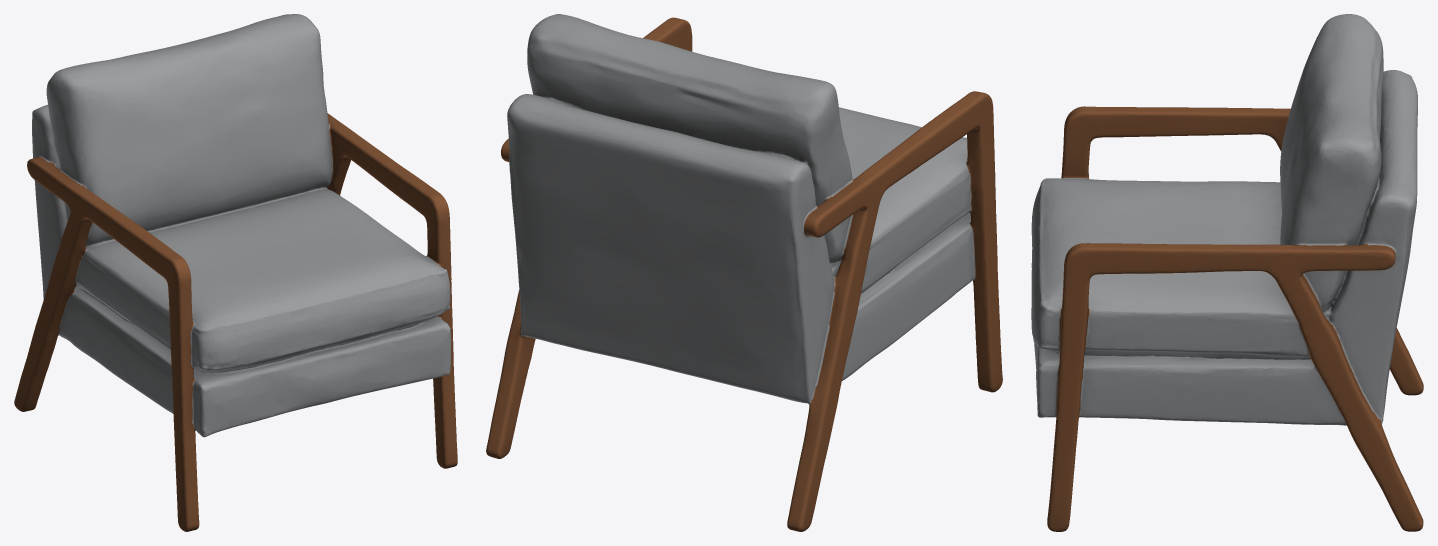
Rendered from agata-072.glb.
The picture shows the model from 3 angles, left to right: view 1: azimuth 30°, elevation 25°; view 2: azimuth 150°, elevation 25°; view 3: azimuth 270°, elevation 25°; orthographic projection. The views are drawn at different scales.
Parts seen in each view (by area): view 1: Sofa; view 2: Sofa; view 3: Sofa.
Boxes of the visible parts, <box> form: Sofa: <box>14,14,457,531</box>; Sofa: <box>486,14,1002,531</box>; Sofa: <box>1031,14,1423,531</box>.
Size of the model in its own units: 0.72 by 0.9 by 0.83.
